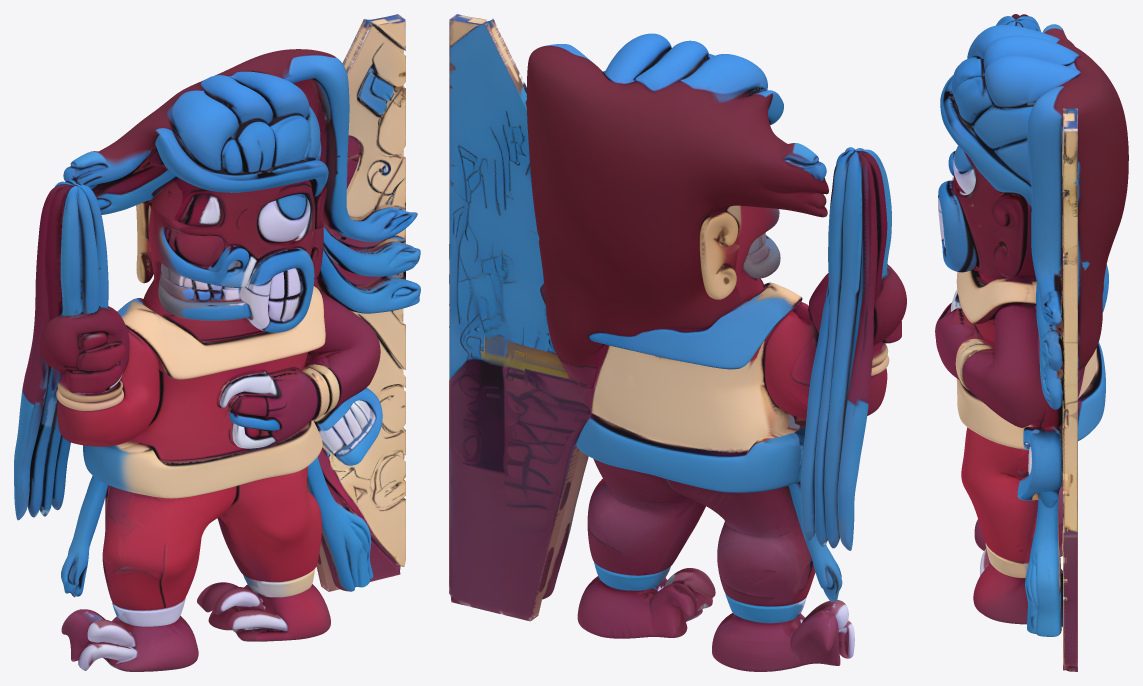
Rendered from other.glb.
The picture shows the model from 3 angles, left to right: view 1: azimuth 30°, elevation 25°; view 2: azimuth 150°, elevation 25°; view 3: azimuth 270°, elevation 25°; orthographic projection. The views are drawn at different scales.
Visible parts, largest first — view 1: model; view 2: model; view 3: model.
Part boxes in pixels (left/top/right/bottom): model: left=14, top=14, right=420, bottom=671; model: left=449, top=14, right=906, bottom=671; model: left=935, top=14, right=1128, bottom=671.
Size of the model in its own units: 1.35 by 1.78 by 0.5708.
Materials: 1 (1 with a texture image).
